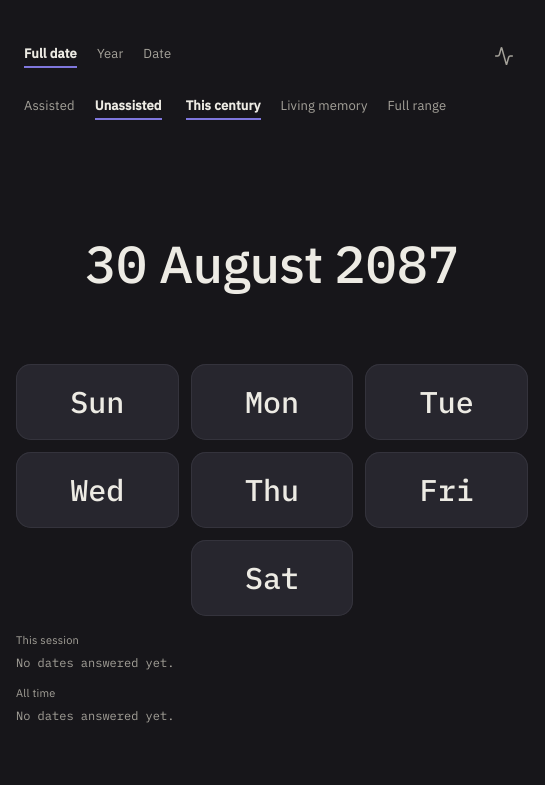
Test: Weekday stats › breaks the record down by mode, month and century
The image size is (545, 785).
Click the button named "Stats".
click(504, 56)  # box [480,32,528,80]
(page scrolled)
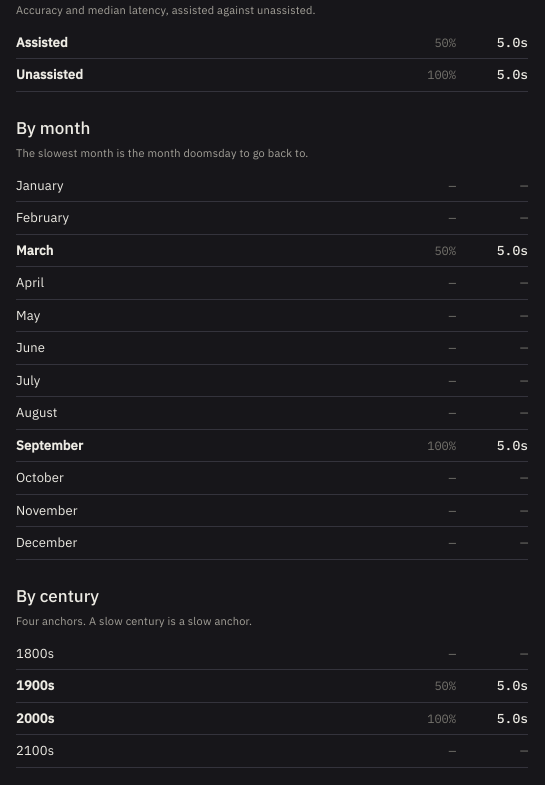
Check: the 1st text "50%" is shown, box [434,36,456,48]
Check: the text "March" is shown, box [16,242,54,258]
Check: the text "1900s" is shown, box [16,677,54,694]
